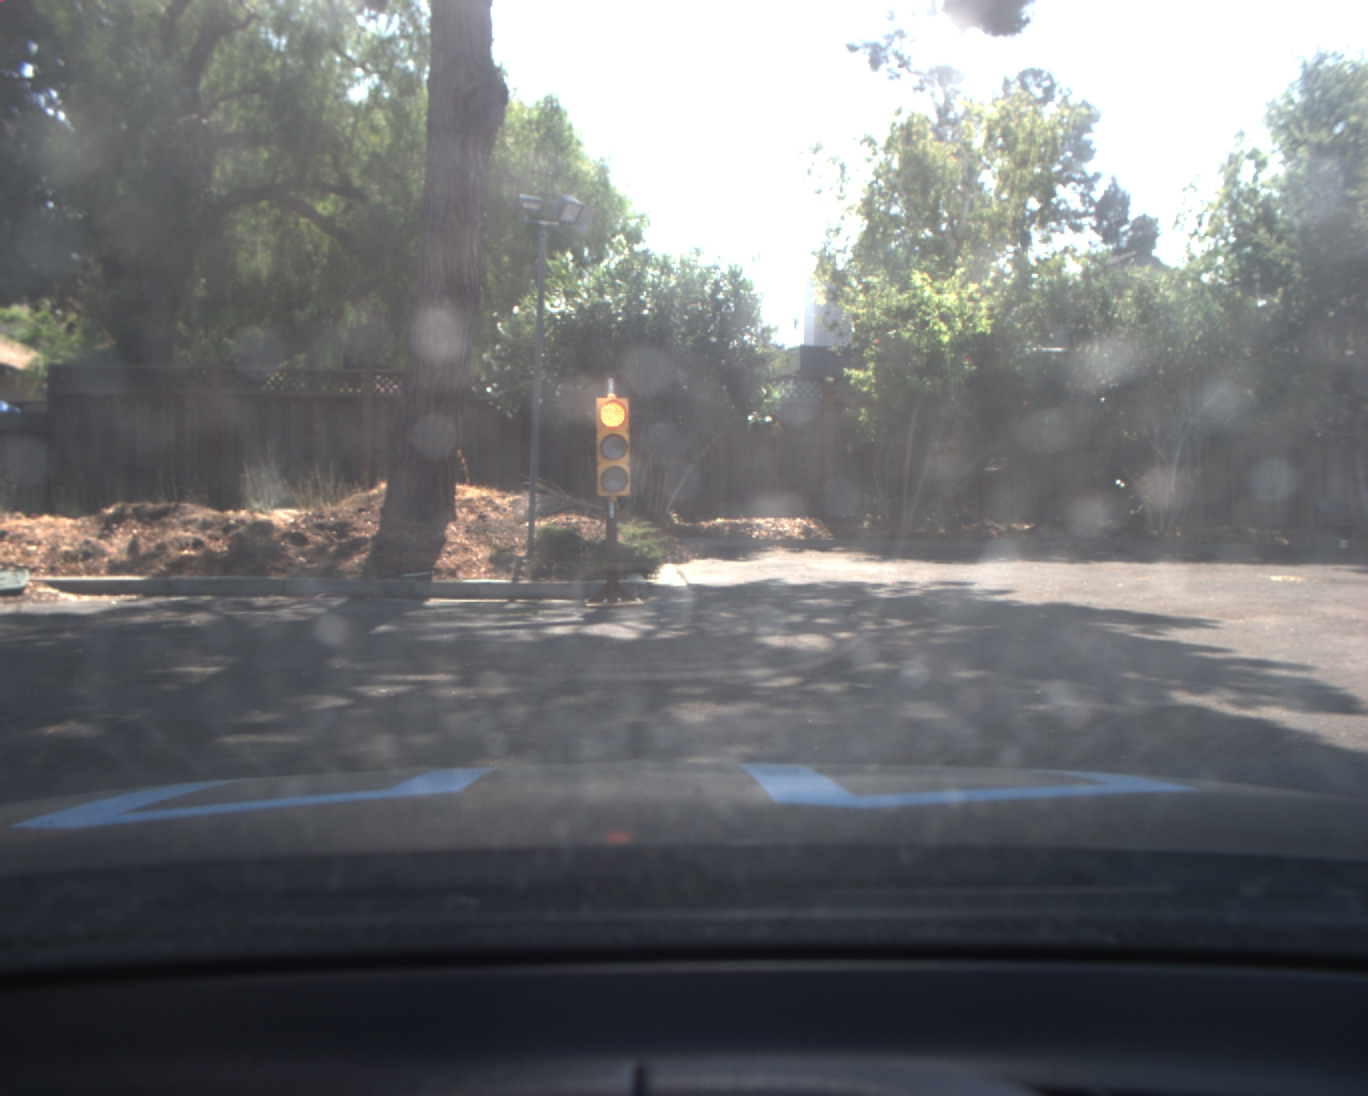red: (596, 397, 632, 499)
